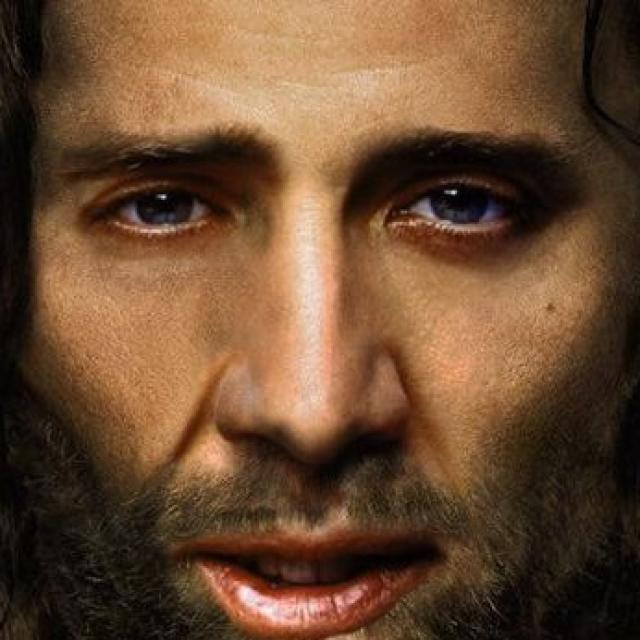Depress: (12, 7, 638, 638)
